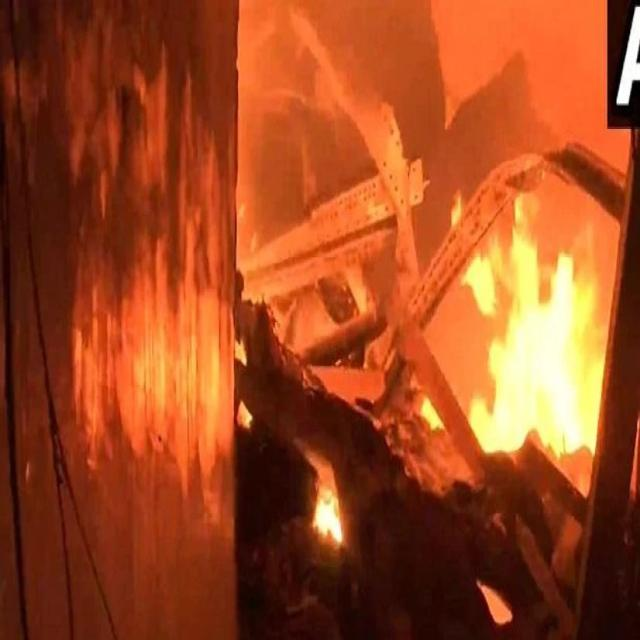fire: (73, 238, 234, 470), (462, 254, 606, 455), (492, 196, 537, 254), (313, 490, 342, 542)
